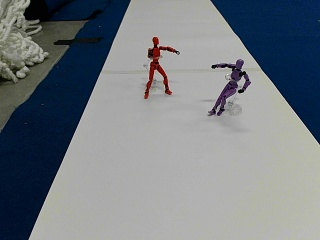pedestrian: (208, 57, 250, 116), (144, 37, 180, 97)
